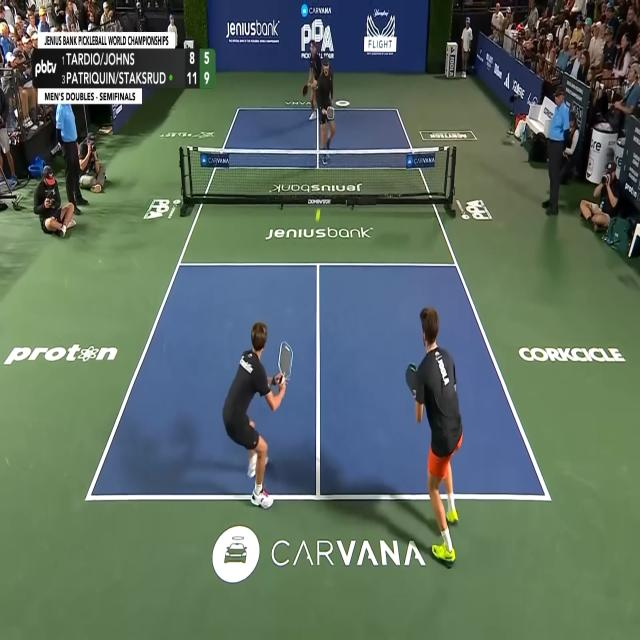ball: (315, 208, 321, 224)
